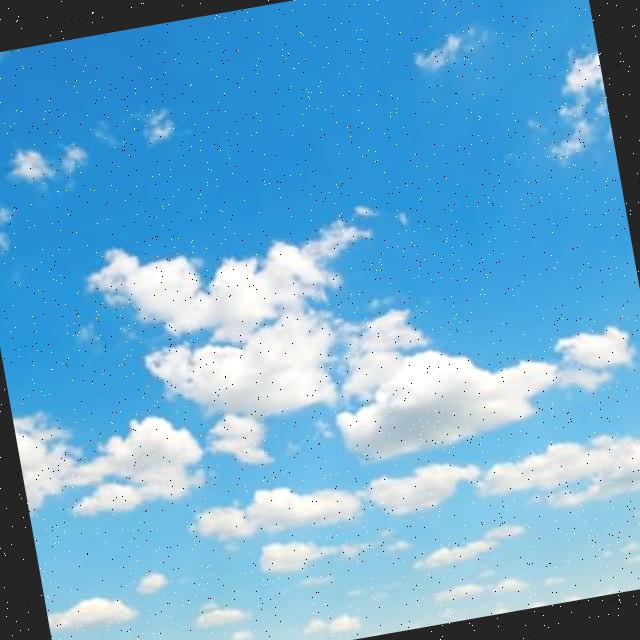Ci: (1, 76, 640, 564)
